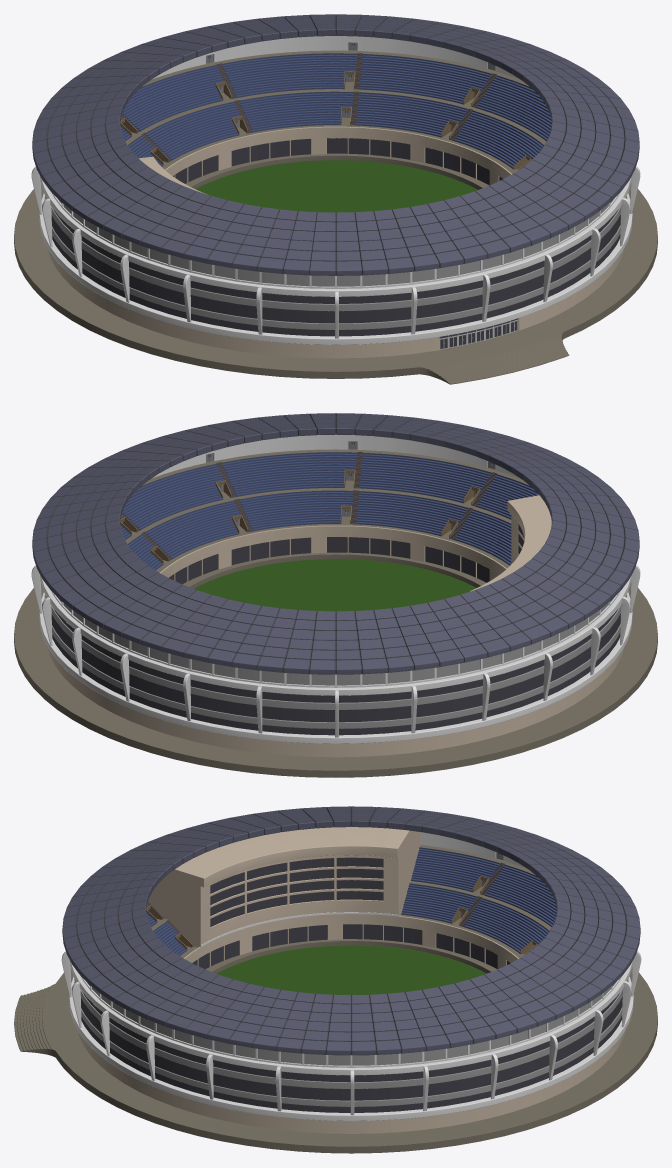
Rendered from Sports Stadium.glb.
The picture shows the model from 3 angles, top to bottom: view 1: azimuth 30°, elevation 25°; view 2: azimuth 150°, elevation 25°; view 3: azimuth 270°, elevation 25°; orthographic projection. The views are drawn at different scales.
Visible parts, largest first — view 1: stadium.1; view 2: stadium.1; view 3: stadium.1.
Boxes of the visible parts, left/top/right/bottom form: stadium.1: left=14, top=14, right=657, bottom=384; stadium.1: left=14, top=413, right=657, bottom=777; stadium.1: left=14, top=806, right=657, bottom=1153.
Bounding box in the file's own units: 49.04 × 10.25 × 51.53.
1 material, 1 textured.
